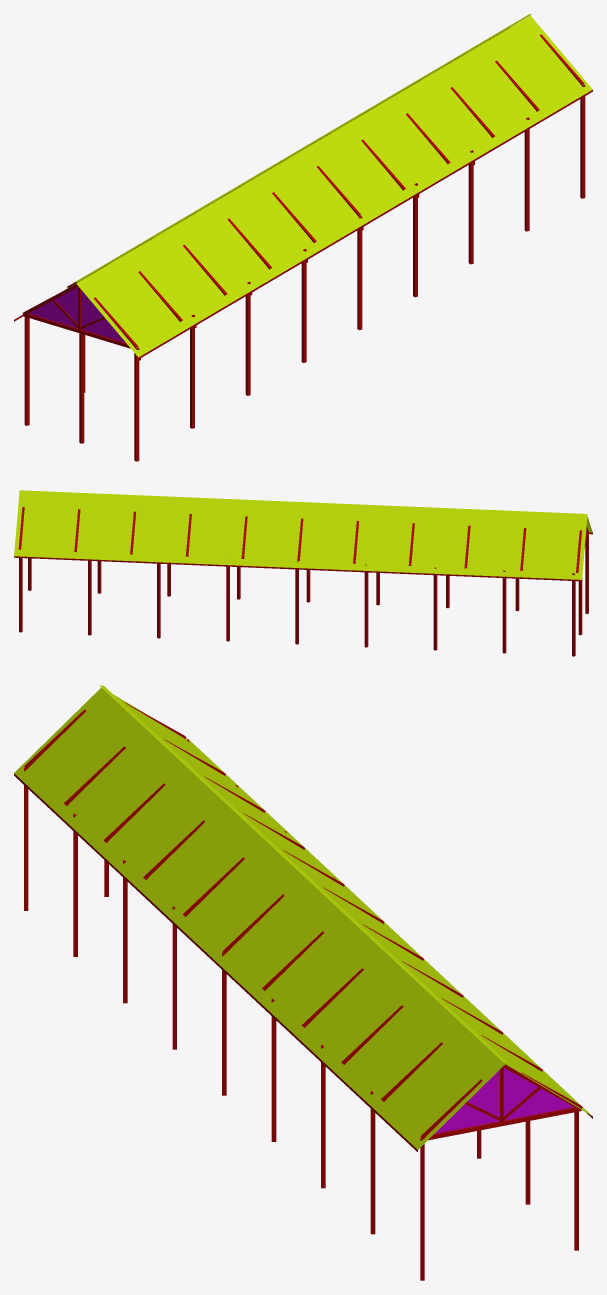
The model's file is sbl_21.glb.
3 renders of one model, top to bottom at view 1: azimuth 30°, elevation 25°; view 2: azimuth 150°, elevation 25°; view 3: azimuth 270°, elevation 25°, orthographic. The views are drawn at different scales.
Parts seen in each view (by area): view 1: sbl_21; view 2: sbl_21; view 3: sbl_21.
Boxes of the visible parts, x1,y1,x2,y2 form: sbl_21: (14,14,592,461); sbl_21: (14,490,592,656); sbl_21: (14,685,592,1280).
Size of the model in its own units: 42.26 by 9.91 by 25.19.
